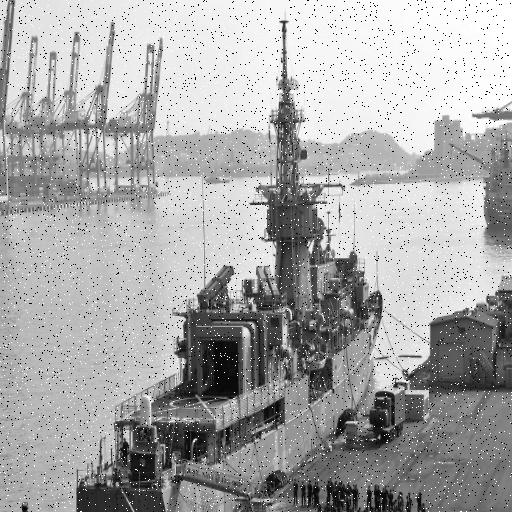Fragata: (72, 1, 392, 512)
